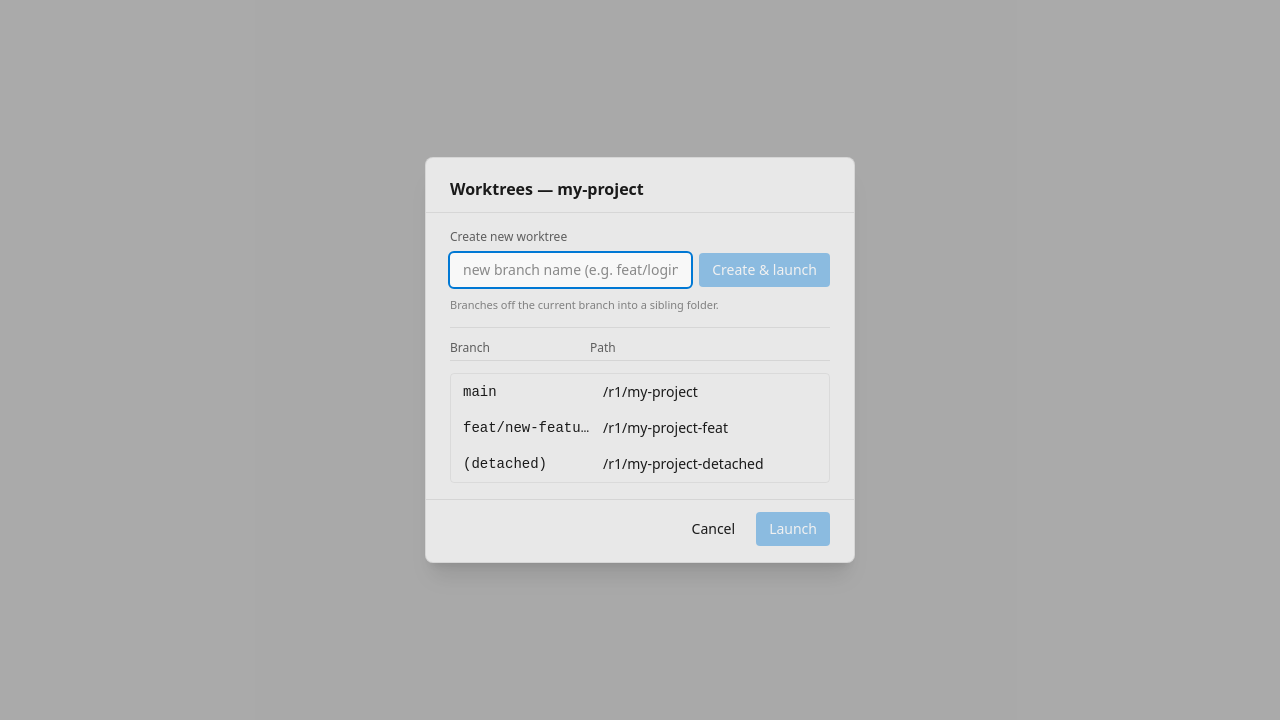
WorktreePickerDialog › shows an error and stays open when worktree creation fails
In the field named "new worktree branch name": (571, 270) 450,253 -> 691,287, type "feat/dup"
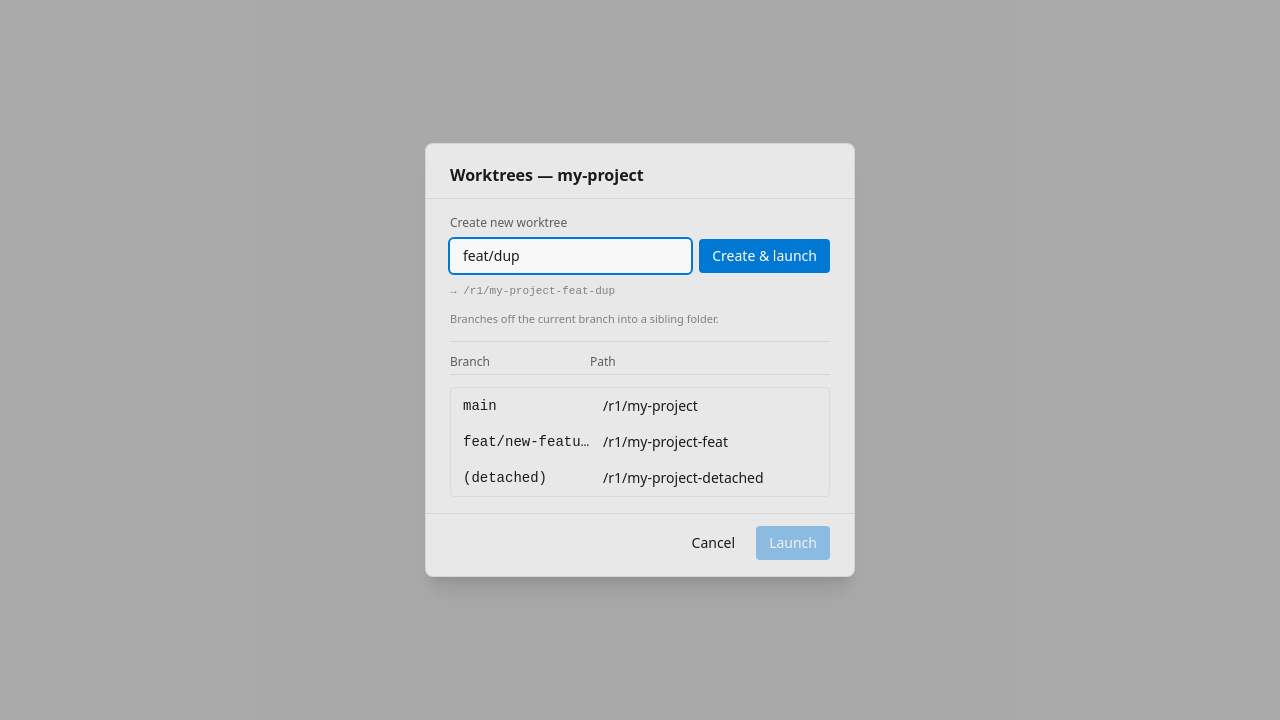
Click the button "Create & launch": (765, 256) 699,239 -> 830,273
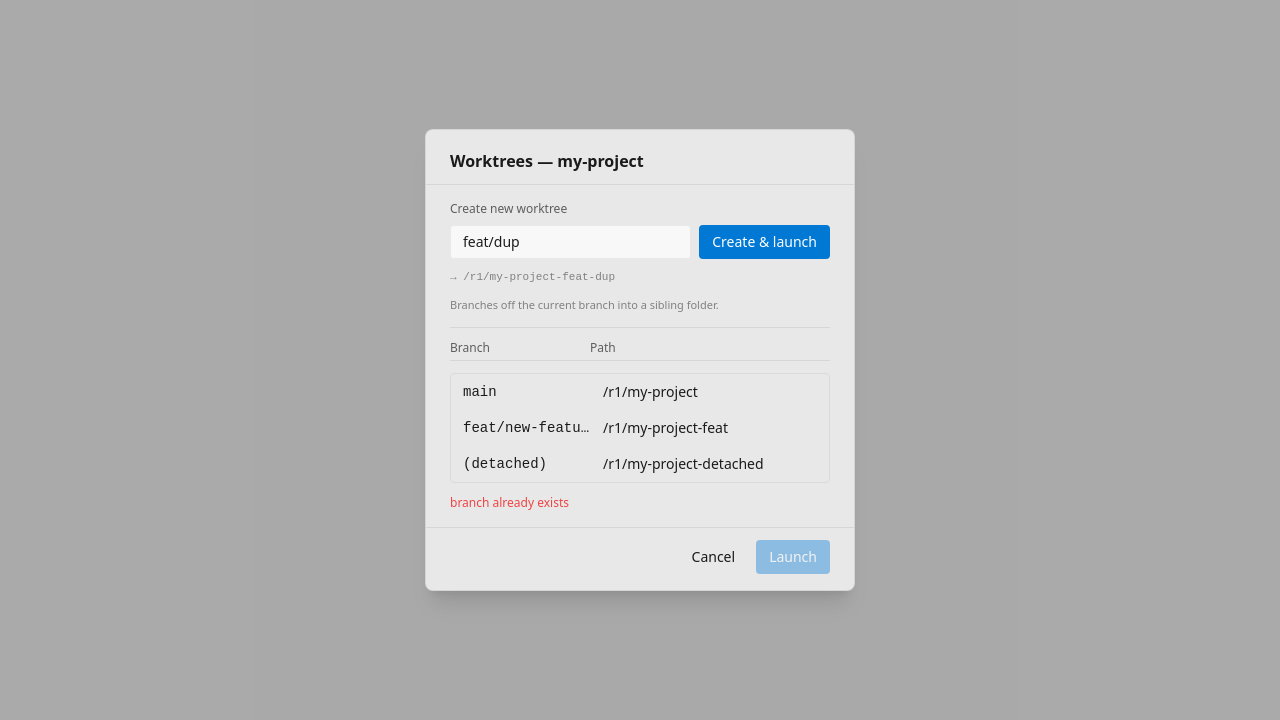
Now the text "branch already exists" is shown, box 450,494 -> 569,511
